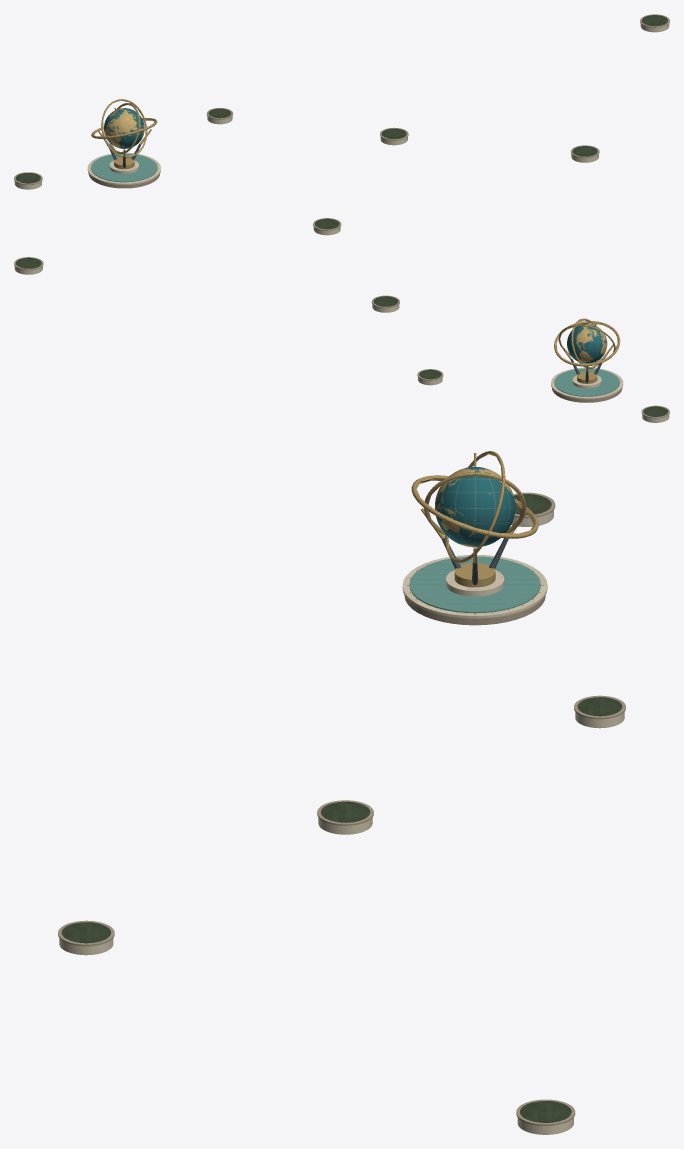
The model's file is MeridianClock.fbx.
3 views of the same model, one above another, from view 1: azimuth 30°, elevation 25°; view 2: azimuth 150°, elevation 25°; view 3: azimuth 270°, elevation 25° (orthographic). The views are drawn at different scales.
Parts seen in each view (by area): view 1: MeridianClock Close, MeridianClock Horizon, MeridianClock Street; view 2: MeridianClock Close, MeridianClock Horizon, MeridianClock Street; view 3: MeridianClock Close, MeridianClock Horizon, MeridianClock Street.
Boxes of the visible parts, x1,y1,x2,y2 form: MeridianClock Close: [14, 14, 669, 189]; MeridianClock Horizon: [15, 15, 669, 189]; MeridianClock Street: [14, 15, 669, 184]; MeridianClock Close: [14, 218, 669, 422]; MeridianClock Horizon: [14, 218, 669, 422]; MeridianClock Street: [14, 218, 669, 417]; MeridianClock Close: [58, 451, 625, 1134]; MeridianClock Horizon: [59, 453, 625, 1133]; MeridianClock Street: [58, 452, 625, 1123].
Bounding box in the file's own units: 6346 × 638 × 2411.
